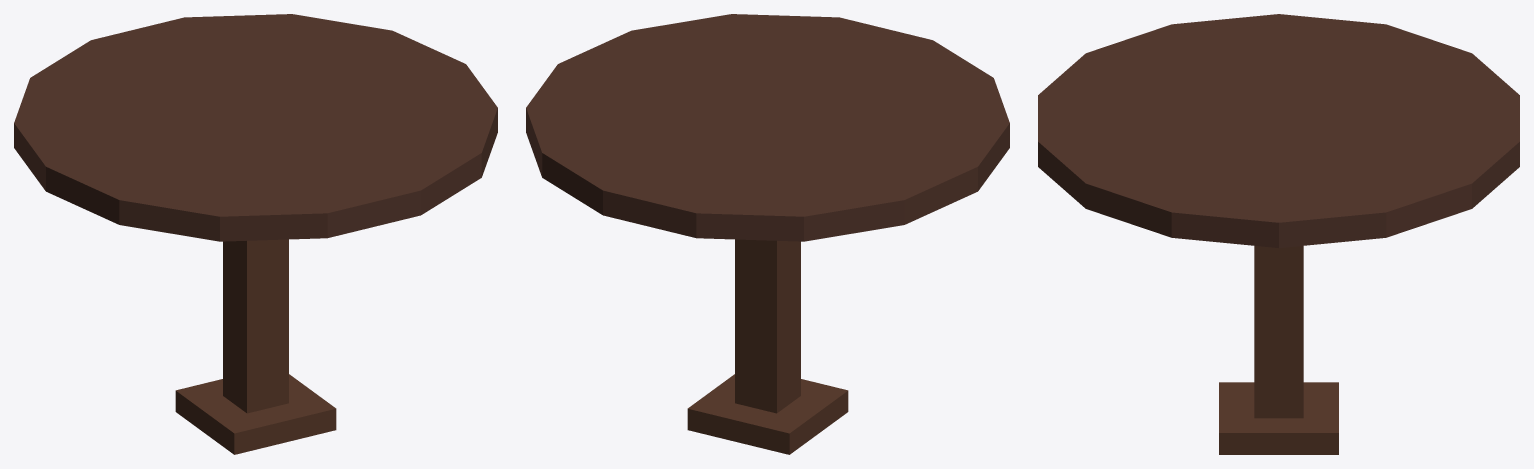
Rendered from Table_2B.fbx.
3 views of the same model, side by side, from view 1: azimuth 30°, elevation 25°; view 2: azimuth 150°, elevation 25°; view 3: azimuth 270°, elevation 25° (orthographic).
Parts seen in each view (by area): view 1: polySurface1730; view 2: polySurface1730; view 3: polySurface1730.
Boxes of the visible parts, x1=… form: polySurface1730: x1=14, y1=14, x2=497, y2=454; polySurface1730: x1=526, y1=14, x2=1009, y2=454; polySurface1730: x1=1038, y1=14, x2=1519, y2=454.
Bounding box in the file's own units: 1.5 × 1.04 × 1.46.
Materials: 1 (1 with a texture image).
